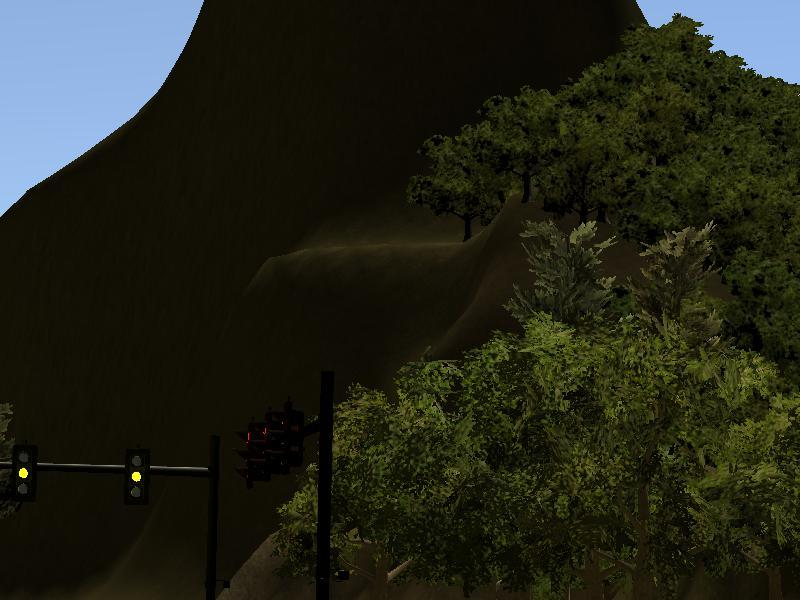Yellow: (11, 446, 37, 502), (125, 450, 149, 503)
